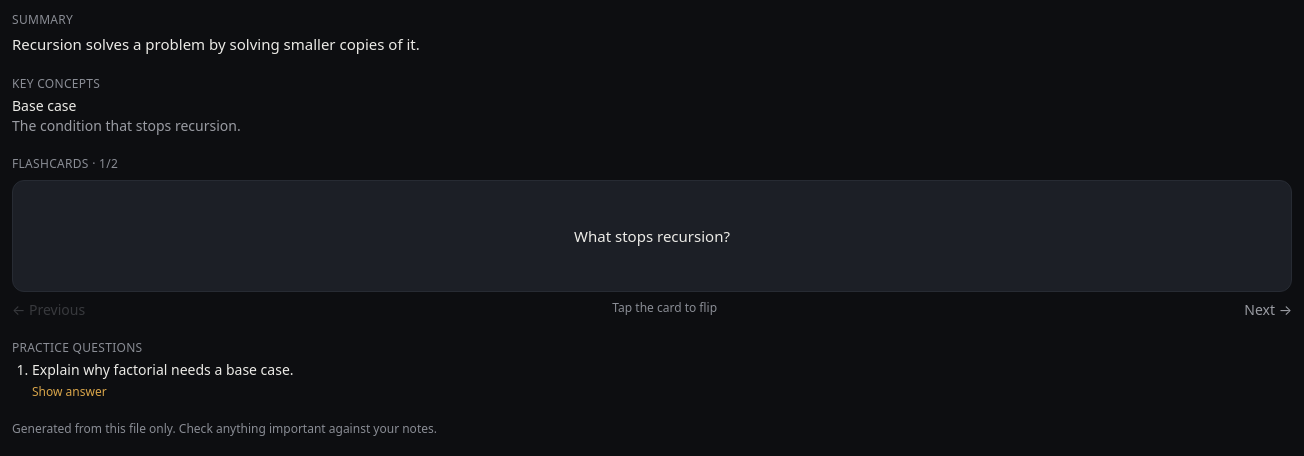
Test case: StudyPack › shows summary and concepts, flips flashcards, reveals answers on demand
Expected: the text "Recursion solves a problem by solving smaller copies of it." is shown, [12,34,420,54]
Expected: the text "Base case" is shown, [12,96,76,115]
Step 1. Click the button with aria-label "Flashcard: show answer" → (652, 236), box [12,180,1292,292]
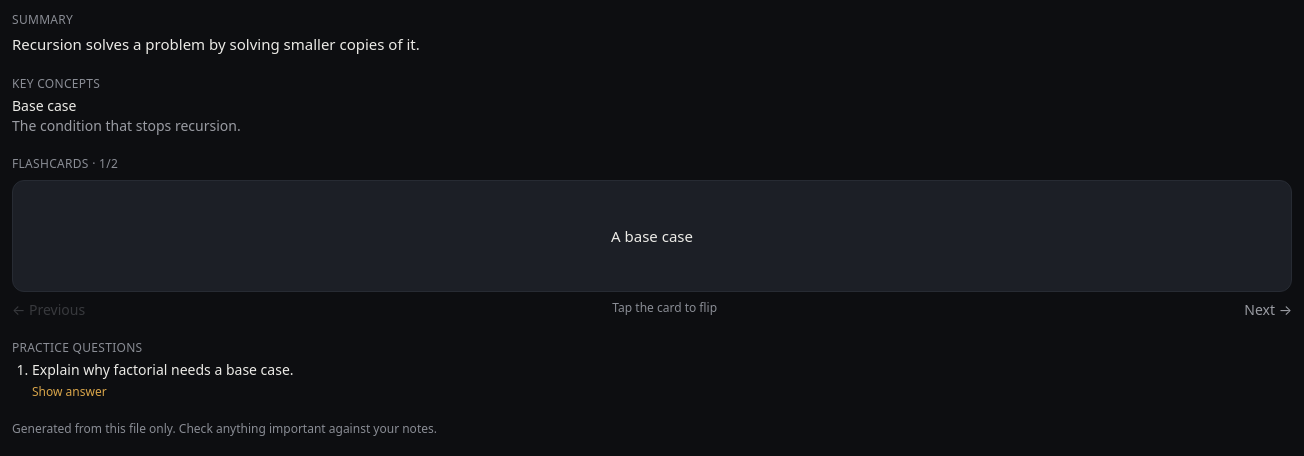
Expected: the button with aria-label "Flashcard: show question" reads "A base case", [12,180,1292,292]
Step 2. Click the button "Next →" → (1268, 310), box [1244,300,1292,320]
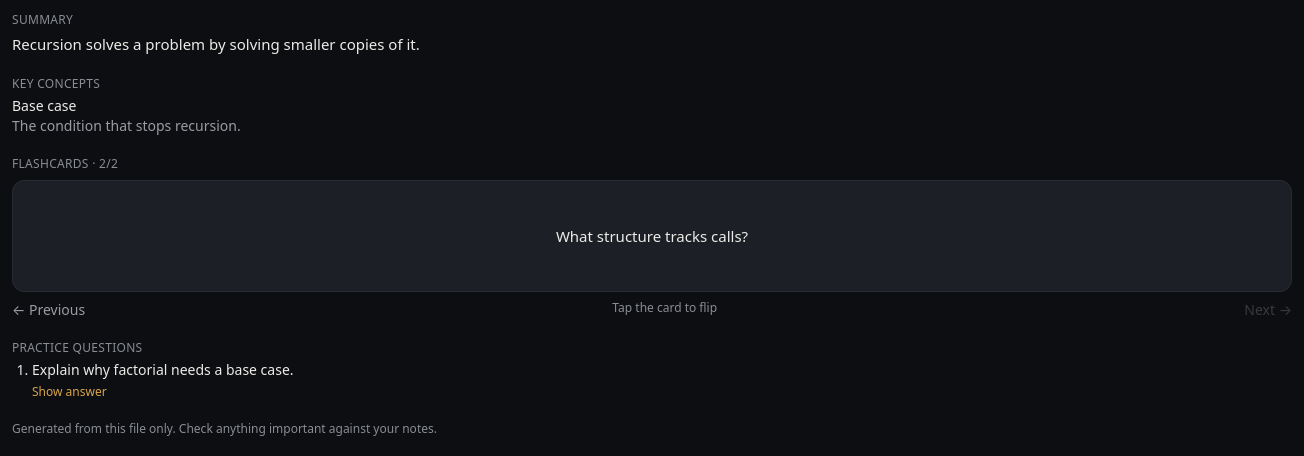
Expected: the text "Without it the calls never end." is not shown
Expected: the button "What structure tracks calls?" is shown, [12,180,1292,292]
Step 3. Click the button "Show answer" → (69, 392), box [32,384,107,400]
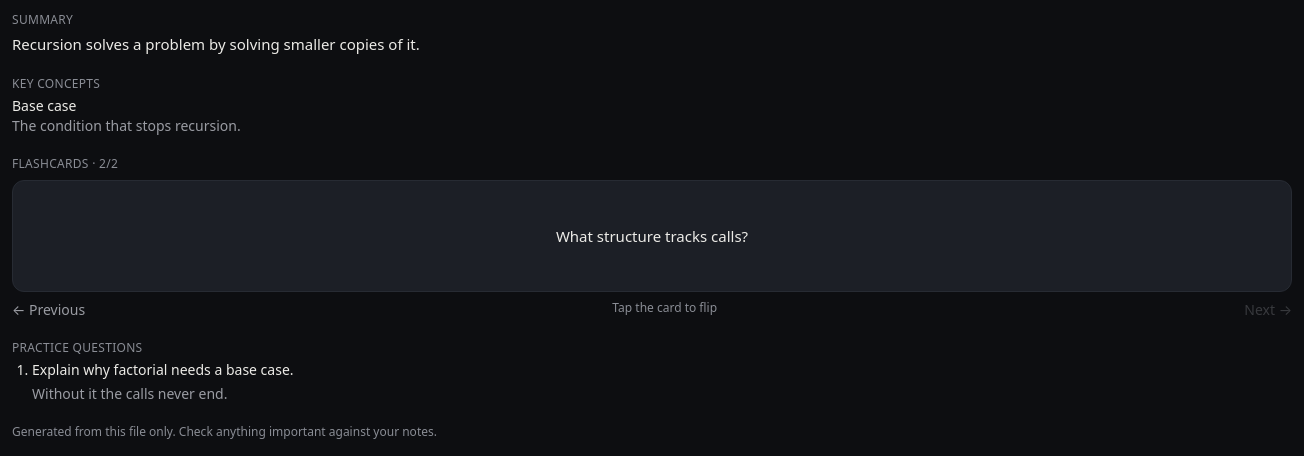
Expected: the text "Without it the calls never end." is shown, [32,384,228,403]
